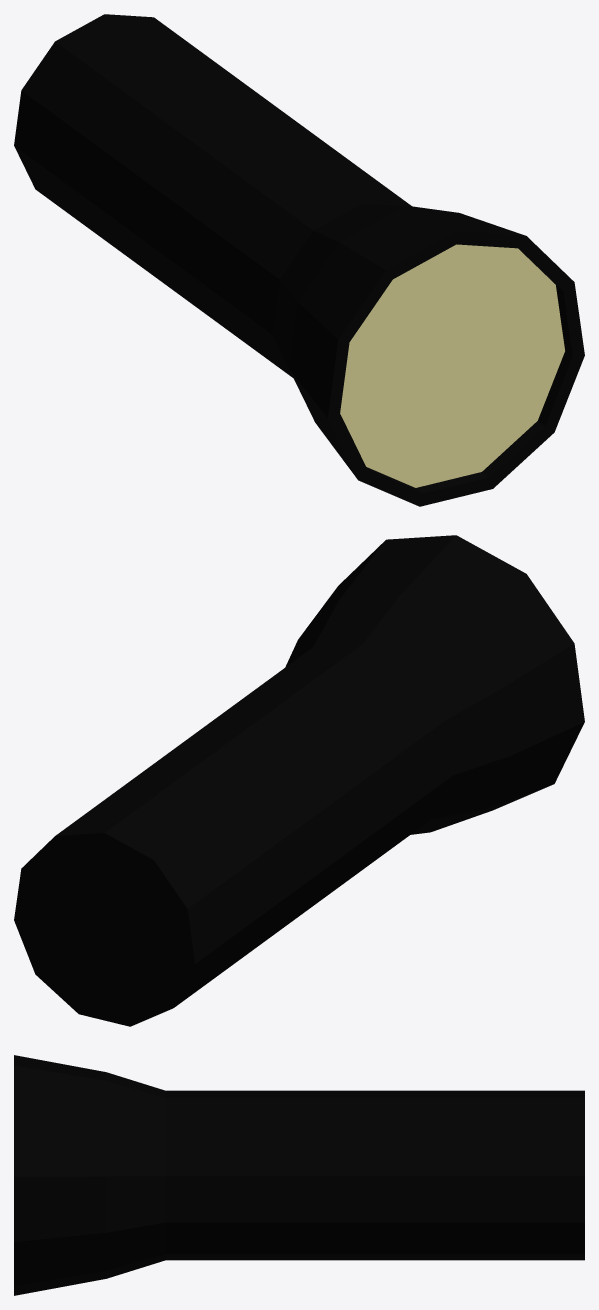
Rendered from 25764_autosave.fbx.
The picture shows the model from 3 angles, top to bottom: view 1: azimuth 30°, elevation 25°; view 2: azimuth 150°, elevation 25°; view 3: azimuth 270°, elevation 25°; orthographic projection. The views are drawn at different scales.
Visible parts, largest first — view 1: Cylinder; view 2: Cylinder; view 3: Cylinder.
Boxes of the visible parts, x1,y1,x2,y2 form: Cylinder: (14, 14, 584, 506); Cylinder: (14, 535, 584, 1026); Cylinder: (14, 1055, 584, 1295).
Size of the model in its own units: 21.04 by 20.83 by 49.87.
